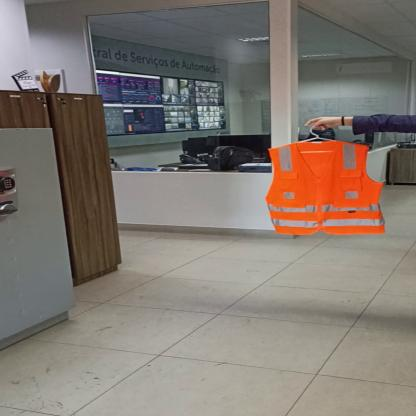colete: (267, 137, 391, 236)
